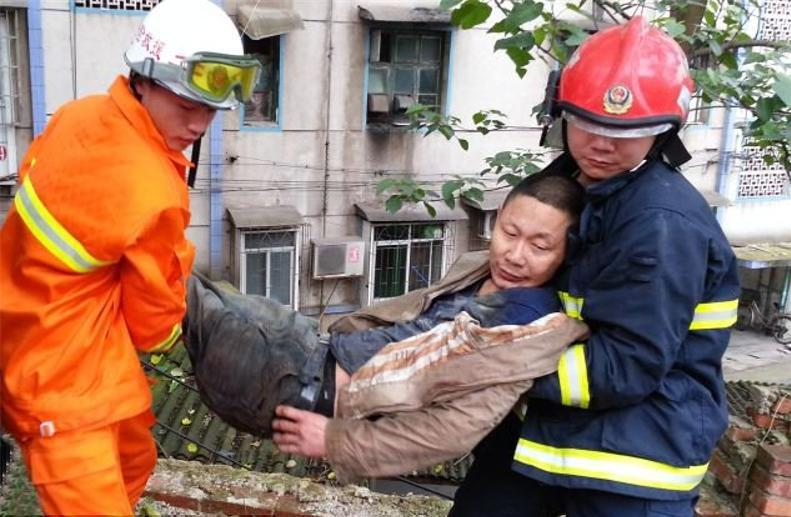Drunk: (494, 190, 560, 290)
